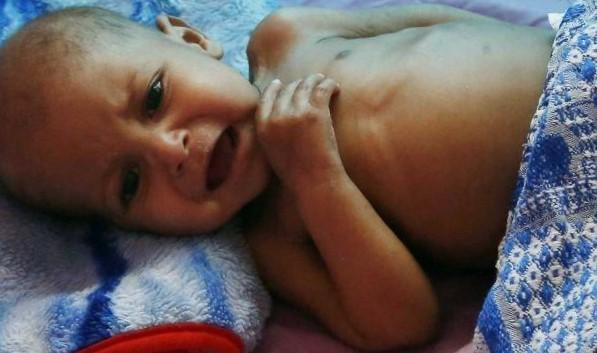Stunting: (9, 6, 265, 248)
